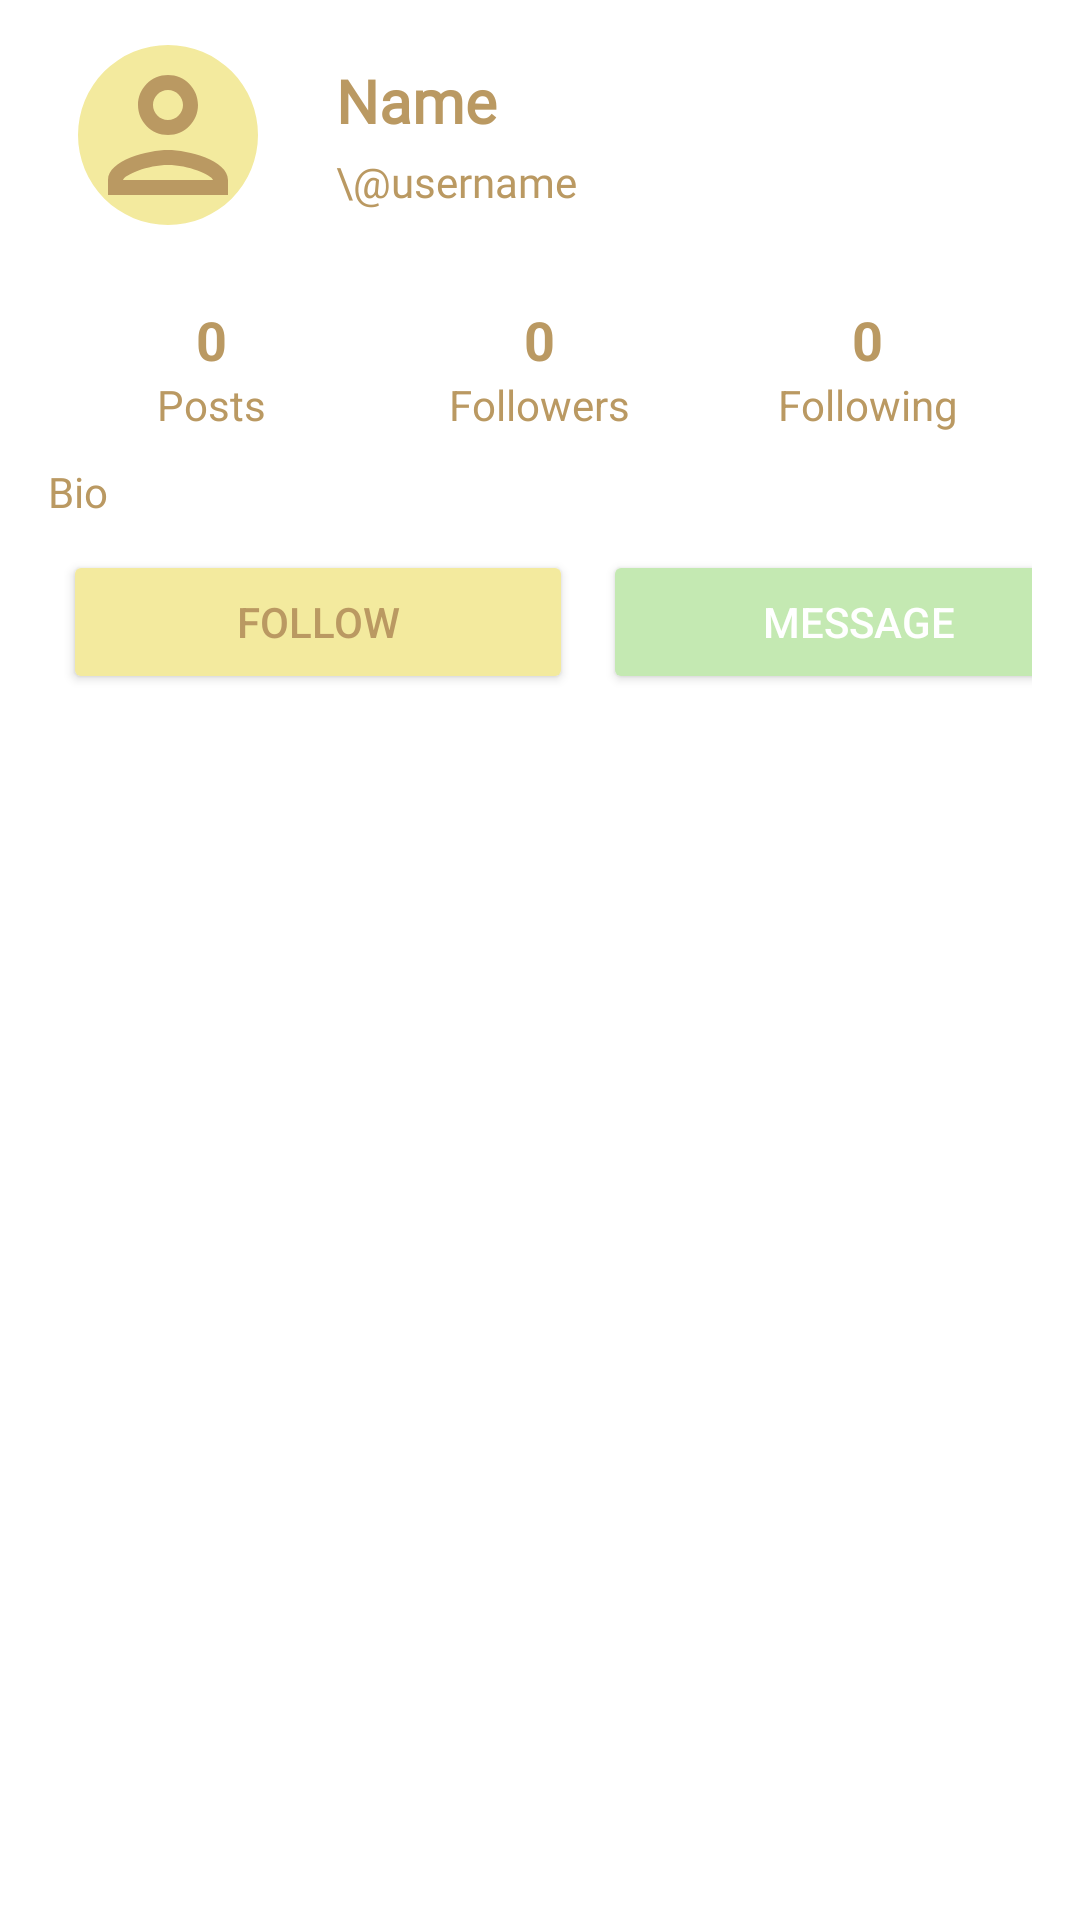

Locate icon controls on the screen. Image size 1080×1920, boxes as (x1, y1, x2, y2).
home profile: (78, 45, 258, 225)
